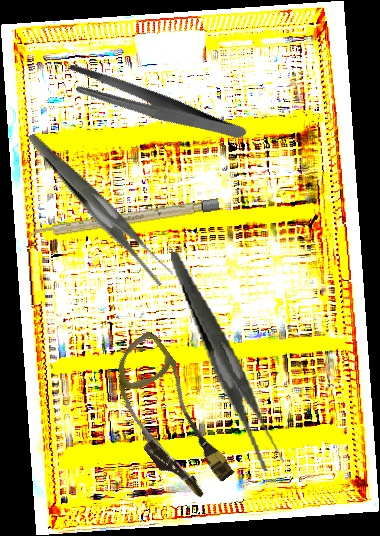Cannula: (88, 328, 251, 508)
Dressing Forceps: (28, 105, 175, 310), (59, 27, 249, 183), (170, 241, 285, 480)
Scalpel Handle: (30, 198, 220, 240)
